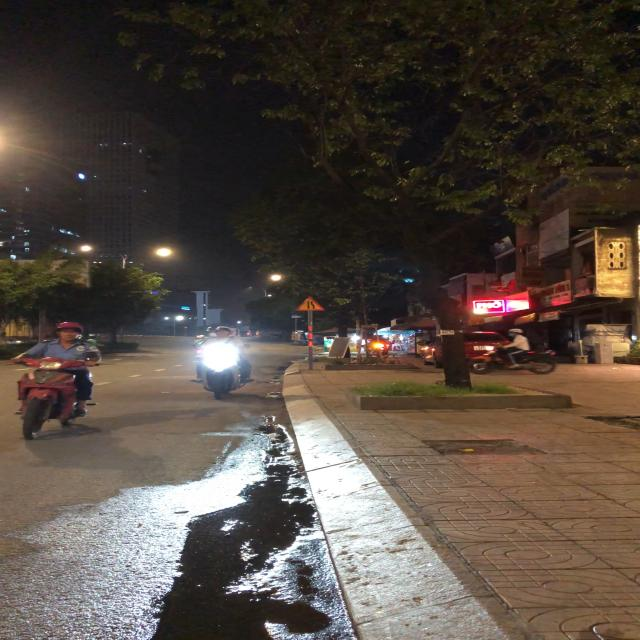Bien bao duong bi thu hep: (290, 294, 330, 312)
